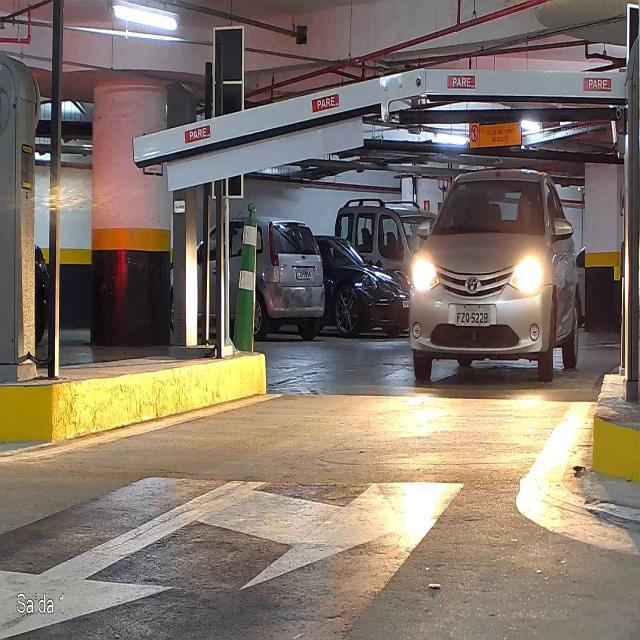old_plate: (455, 304, 491, 327)
